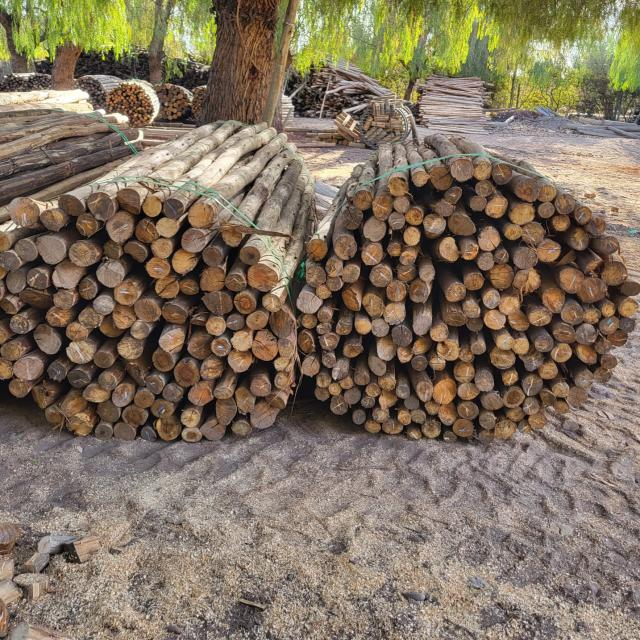package: (302, 158, 640, 442), (0, 185, 298, 445), (106, 80, 156, 128), (156, 83, 190, 120), (75, 80, 105, 108), (0, 77, 28, 91), (26, 74, 48, 90)
